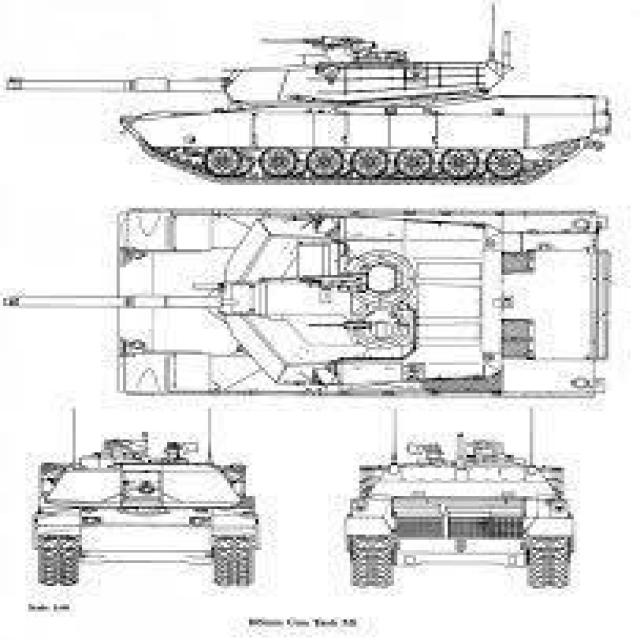Tanks: (2, 206, 610, 401), (8, 2, 613, 188), (344, 409, 577, 591), (32, 406, 258, 589)
